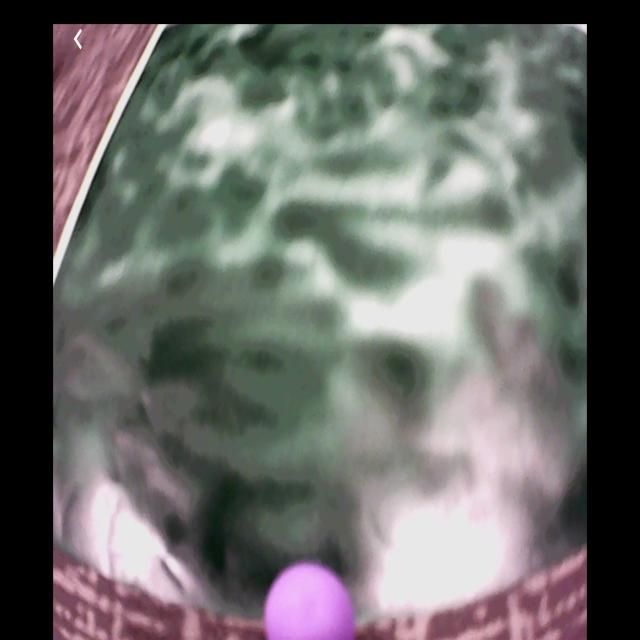ball: (266, 563, 355, 640)
